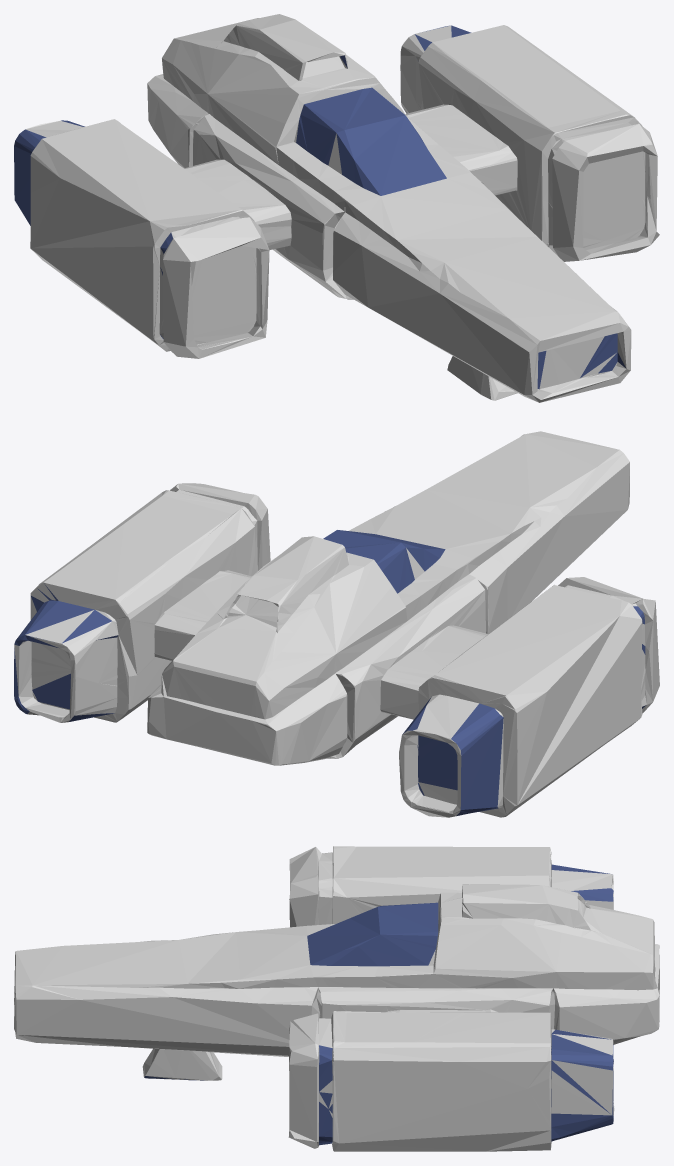
File: hull_comet.obj
The picture shows the model from 3 angles, top to bottom: view 1: azimuth 30°, elevation 25°; view 2: azimuth 150°, elevation 25°; view 3: azimuth 270°, elevation 25°; orthographic projection. The views are drawn at different scales.
Size of the model in its own units: 3.13 by 1.28 by 4.1.
